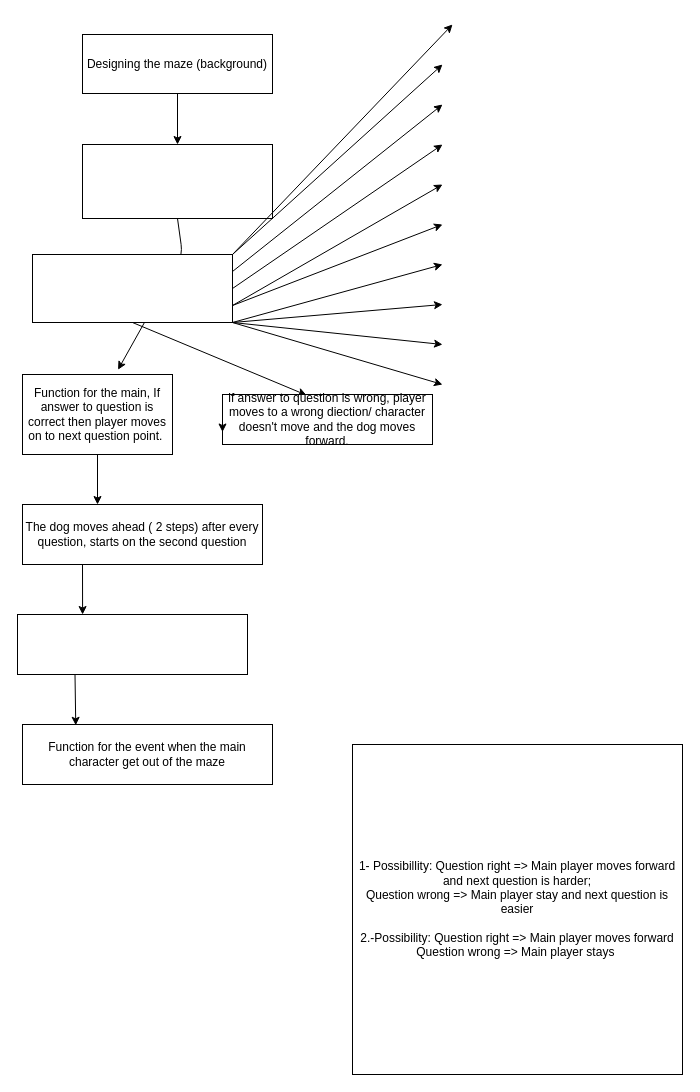
The diagram is 700 pixels wide and 1092 high, and some of its shapes have lost their labels. Here are the shapes that lost their labels. From the top down, the centre of each, then its label:
the point at 177,181: Designing the characters : -Main player -An angry dog chasing
the point at 132,288: Formulating Questions
the point at 132,644: Function for the event when they meet
